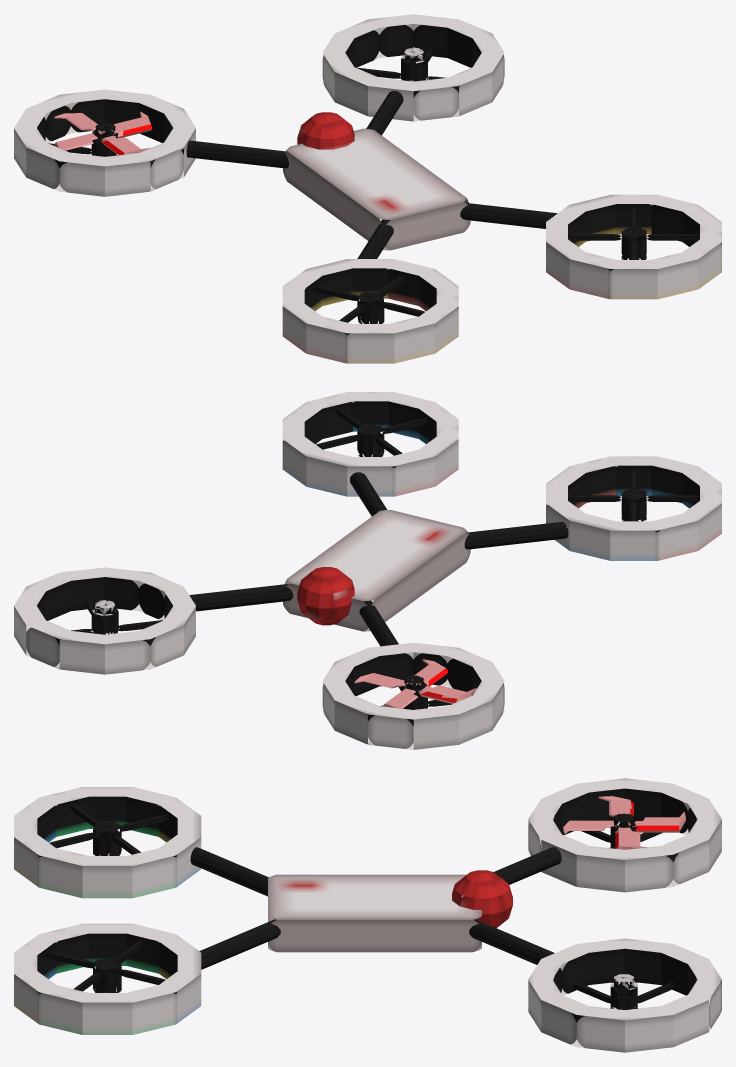
The model's file is drone.fbx.
3 renders of one model, top to bottom at view 1: azimuth 30°, elevation 25°; view 2: azimuth 150°, elevation 25°; view 3: azimuth 270°, elevation 25°, orthographic. The views are drawn at different scales.
Parts seen in each view (by area): view 1: body, blade7; view 2: body, blade7; view 3: body, blade7.
Boxes of the visible parts, box(x1,y1,x2,y2) form: body: box(14, 14, 721, 363); blade7: box(54, 111, 152, 155); body: box(14, 392, 721, 749); blade7: box(354, 659, 476, 708); body: box(14, 778, 721, 1052); blade7: box(563, 796, 685, 849).
Size of the model in its own units: 201 by 22.68 by 248.
Materials: 2 (2 with a texture image).
